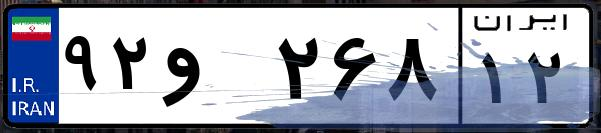1: (475, 38, 525, 113)
2: (270, 28, 330, 110), (525, 38, 570, 115), (110, 28, 158, 98)
6: (330, 28, 385, 110)
8: (385, 28, 445, 110)
9: (57, 26, 110, 100)
و: (158, 20, 270, 120)
